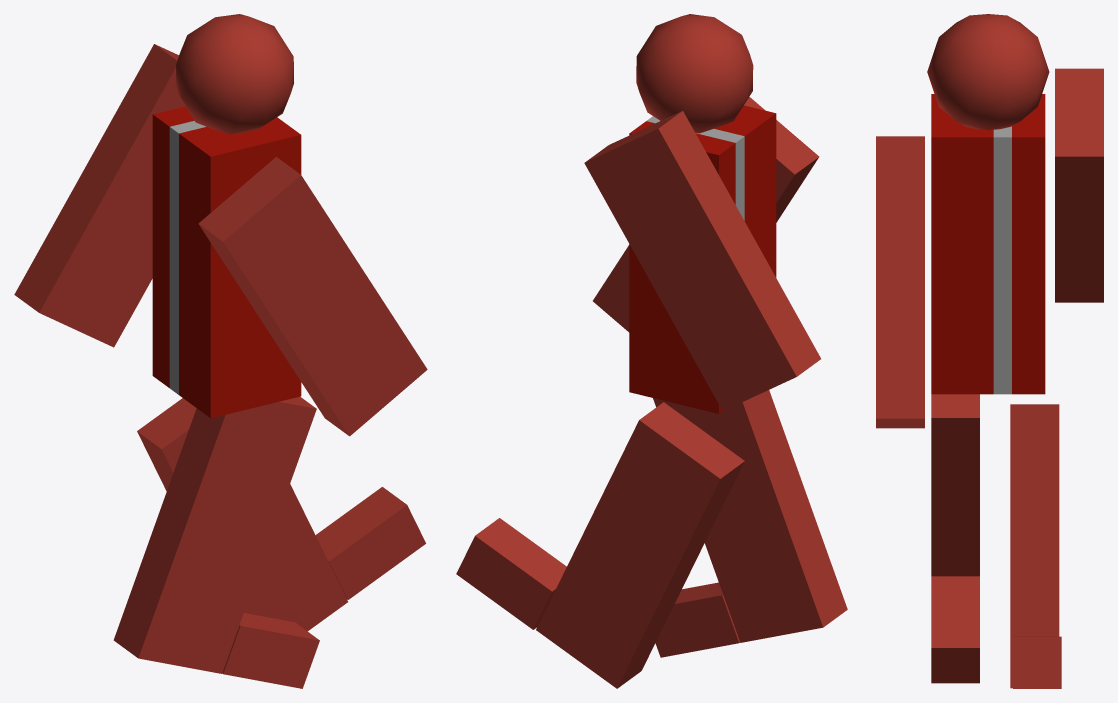
The model's file is player_000003.obj.
3 views of the same model, side by side, from view 1: azimuth 30°, elevation 25°; view 2: azimuth 150°, elevation 25°; view 3: azimuth 270°, elevation 25° (orthographic).
Visible parts, largest first — view 1: Cube.010, Cube.007, Cube.013, Cube.012, Icosphere.001, Cube.008, Cube.009, Cube.011; view 2: Cube.012, Cube.008, Cube.010, Cube.007, Icosphere.001, Cube.009, Cube.011, Cube.013; view 3: Cube.007, Cube.013, Cube.008, Cube.012, Icosphere.001, Cube.010, Cube.011, Cube.009.
Boxes of the visible parts, box(x1,y1,x2,y2) form: Cube.010: box(113, 396, 316, 673); Cube.007: box(152, 106, 301, 418); Cube.013: box(198, 157, 427, 436); Cube.012: box(14, 44, 184, 347); Icosphere.001: box(176, 14, 293, 134); Cube.008: box(137, 398, 347, 631); Cube.009: box(315, 487, 425, 599); Cube.011: box(222, 613, 319, 688); Cube.012: box(584, 111, 820, 410); Cube.008: box(536, 402, 744, 688); Cube.010: box(653, 390, 847, 642); Cube.007: box(629, 105, 776, 413); Icosphere.001: box(636, 14, 753, 133); Cube.009: box(456, 518, 566, 629); Cube.011: box(655, 582, 740, 657); Cube.013: box(593, 97, 819, 332); Cube.007: box(931, 94, 1045, 394); Cube.013: box(876, 136, 924, 428); Cube.008: box(1010, 404, 1059, 688); Cube.012: box(1055, 68, 1103, 302); Icosphere.001: box(927, 14, 1049, 129); Cube.010: box(931, 394, 979, 576); Cube.011: box(931, 576, 979, 683); Cube.009: box(1013, 636, 1061, 688).
Bounding box in the file's own units: 1.67 × 2.87 × 0.9137.
